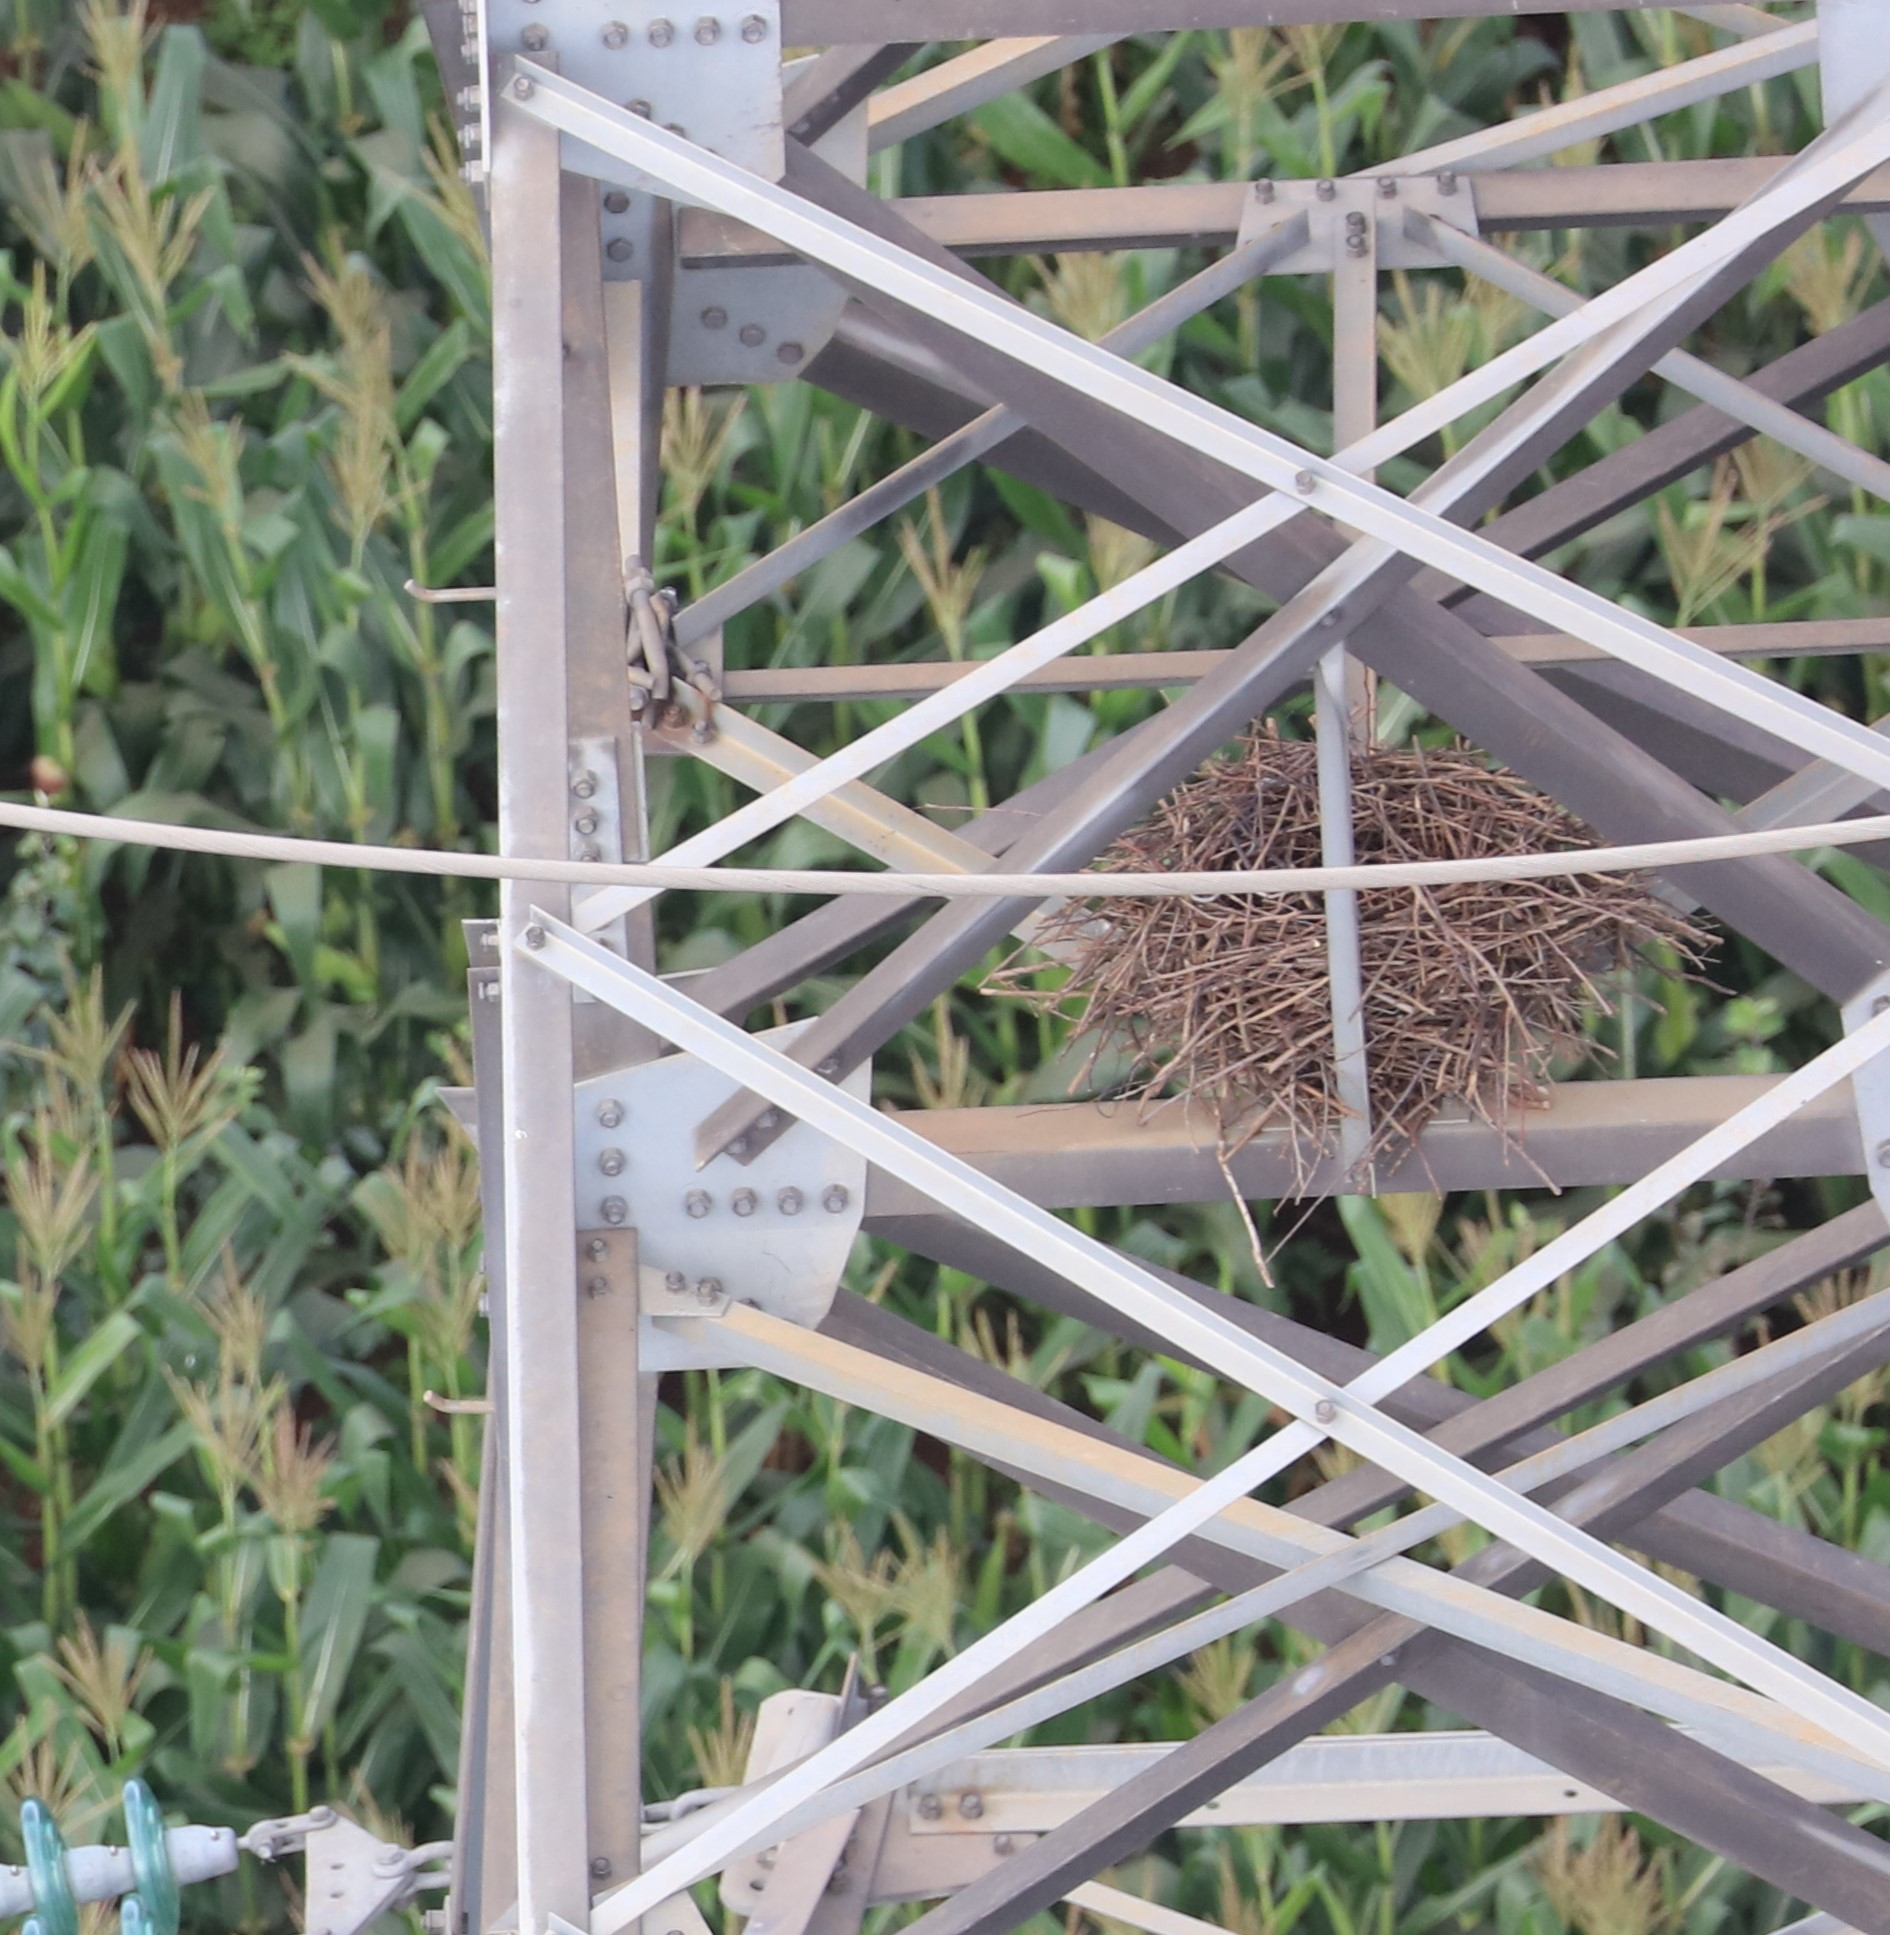niaowo: (1066, 711, 1646, 1179)
